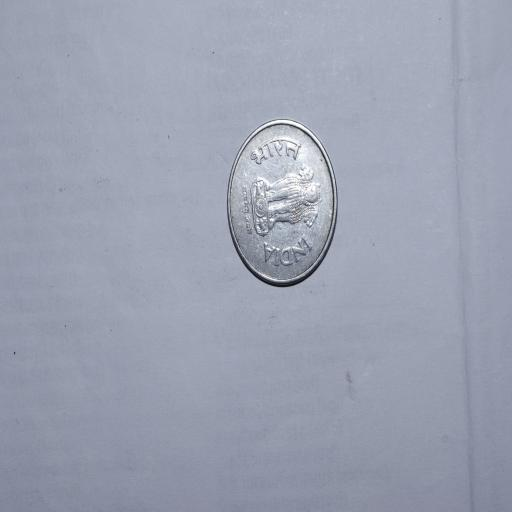rupee1: (224, 118, 338, 289)
